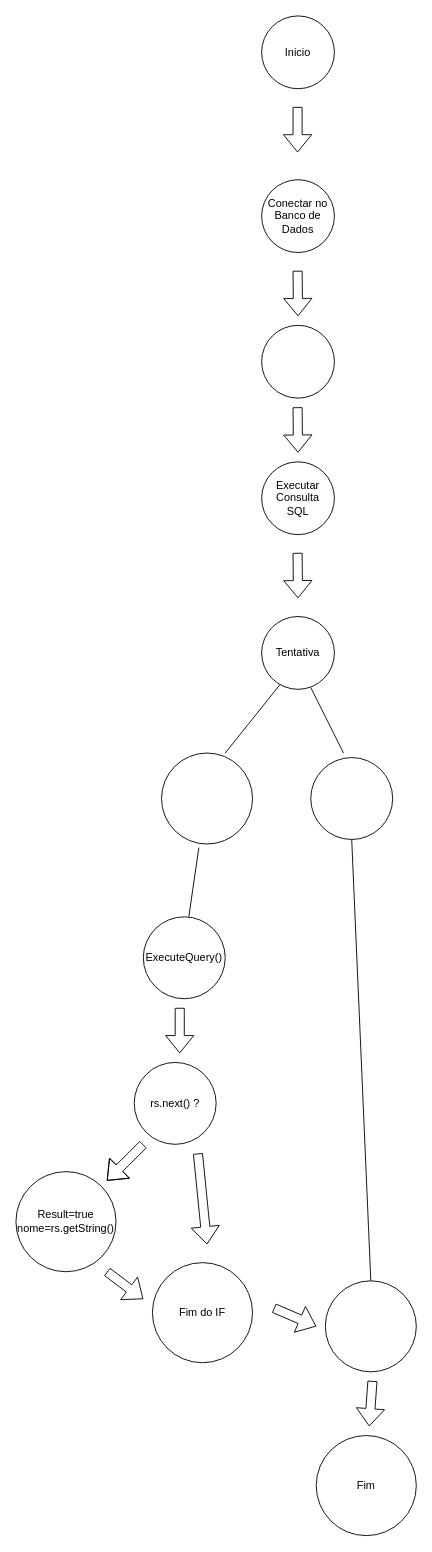
Image size: 432x1552. Some labels were removed from this diagram. Each missing label, with the centre of its shape:
"CatchException" goes at point (351, 798).
"CreateStatement()" goes at point (207, 798).
"Montar sql" goes at point (297, 361).
"Return Resull" goes at point (370, 1326).
